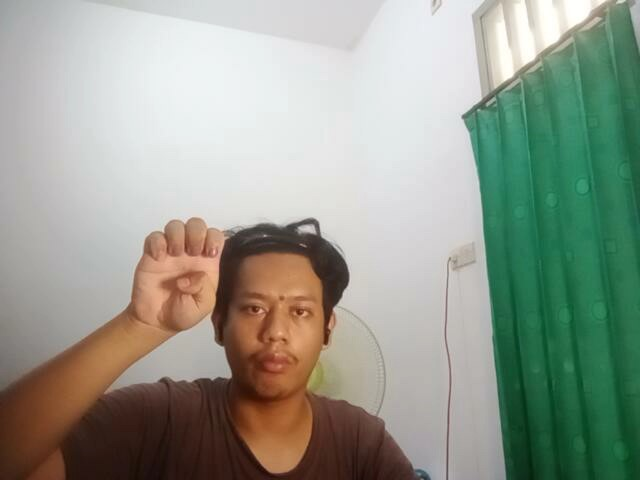E: (122, 203, 232, 336)
